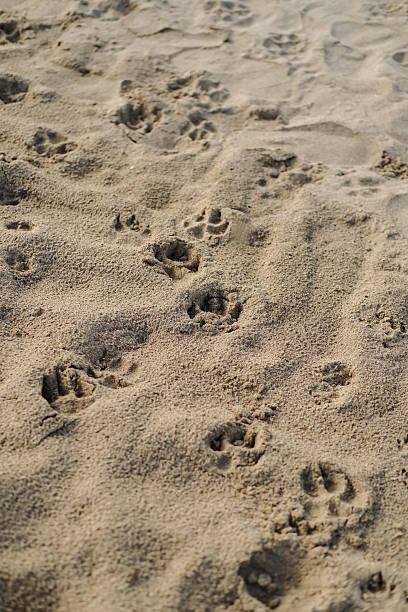animal_footprint: (296, 462, 368, 545), (41, 360, 129, 413), (238, 542, 297, 609), (176, 74, 228, 145), (255, 149, 320, 198), (207, 422, 264, 469), (356, 296, 407, 347), (41, 365, 95, 413), (187, 287, 241, 331), (144, 237, 199, 279), (246, 32, 305, 70), (112, 98, 164, 139), (309, 361, 352, 403), (183, 207, 229, 244), (27, 127, 76, 157), (204, 0, 253, 27), (180, 109, 215, 140), (360, 571, 394, 601), (0, 168, 27, 205), (374, 150, 407, 179), (263, 33, 302, 56), (0, 73, 28, 103), (5, 248, 33, 277), (114, 213, 150, 235), (397, 434, 407, 487), (0, 18, 20, 44), (248, 106, 280, 121), (5, 220, 33, 230)
